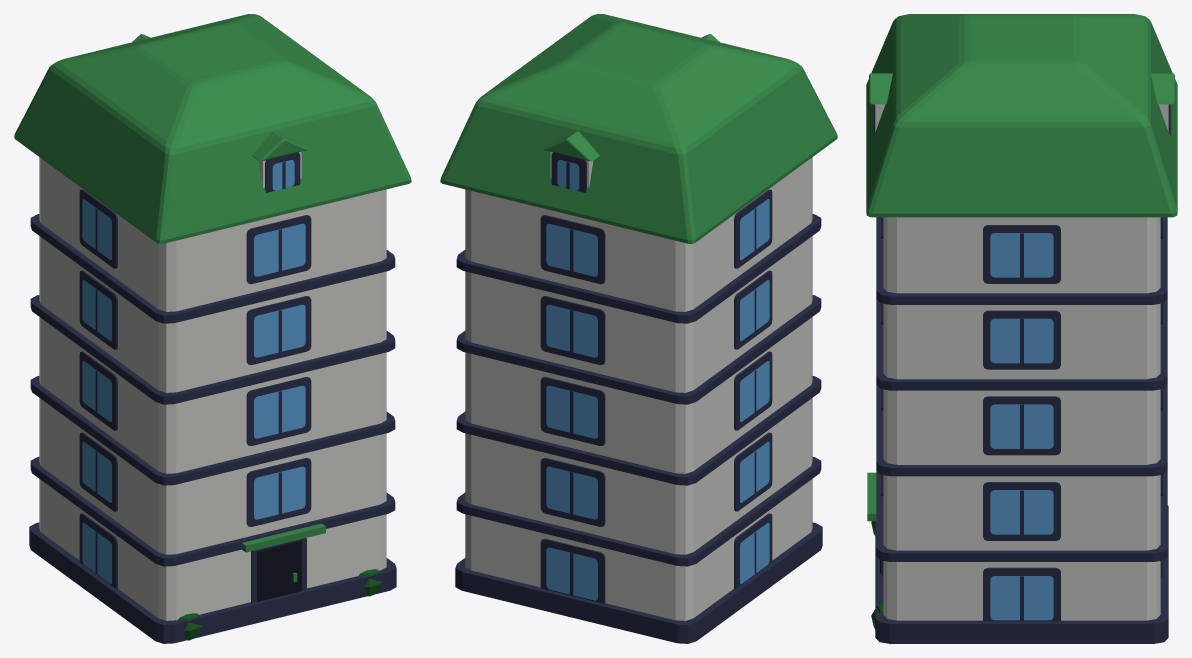
Rendered from house-1x1-5f-mansard-a.glb.
The picture shows the model from 3 angles, left to right: view 1: azimuth 30°, elevation 25°; view 2: azimuth 150°, elevation 25°; view 3: azimuth 270°, elevation 25°; orthographic projection. The views are drawn at different scales.
Visible parts, largest first — view 1: house-1x1-5f-mansard-a; view 2: house-1x1-5f-mansard-a; view 3: house-1x1-5f-mansard-a.
Boxes of the visible parts, x1,y1,x2,y2 form: house-1x1-5f-mansard-a: (14,14,411,643); house-1x1-5f-mansard-a: (440,14,837,643); house-1x1-5f-mansard-a: (866,14,1177,643).
Bounding box in the file's own units: 0.9876 × 1.9 × 0.9876.
1 material, 1 textured.
